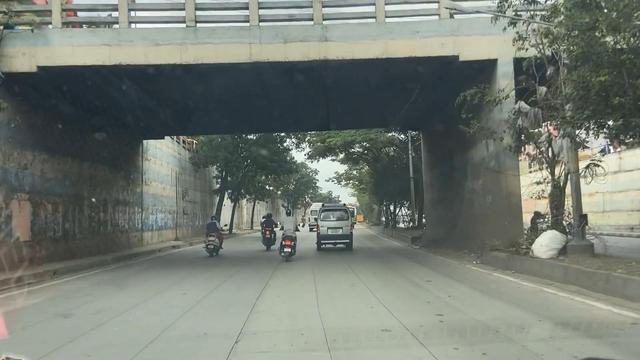LMV: (305, 199, 357, 248), (198, 204, 229, 253), (274, 206, 300, 260), (256, 208, 273, 247)
